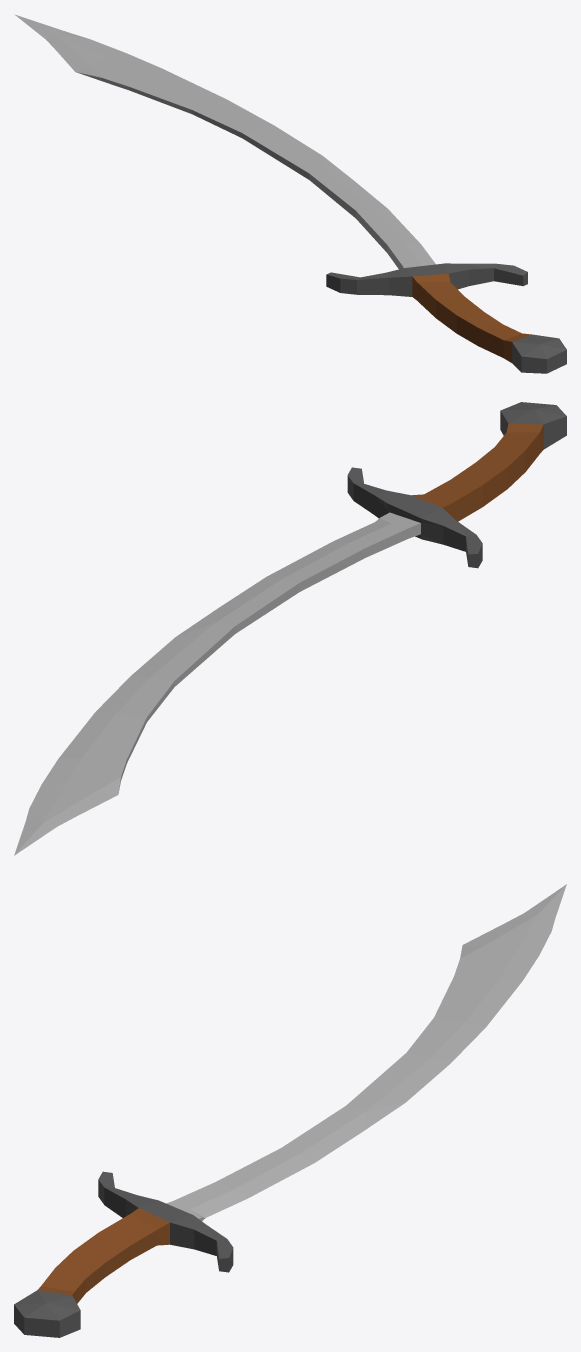
Rendered from Low Poly Weapon Pack - by Kickin It Studios.fbx_Scimitar.fbx.
3 views of the same model, one above another, from view 1: azimuth 30°, elevation 25°; view 2: azimuth 150°, elevation 25°; view 3: azimuth 330°, elevation 25° (orthographic). The views are drawn at different scales.
Visible parts, largest first — view 1: Scimitar; view 2: Scimitar; view 3: Scimitar.
Boxes of the visible parts, bbox=[...] form: Scimitar: bbox=[14, 14, 566, 373]; Scimitar: bbox=[14, 402, 566, 855]; Scimitar: bbox=[14, 884, 566, 1337].
Size of the model in its own units: 27.52 by 3.94 by 153.
